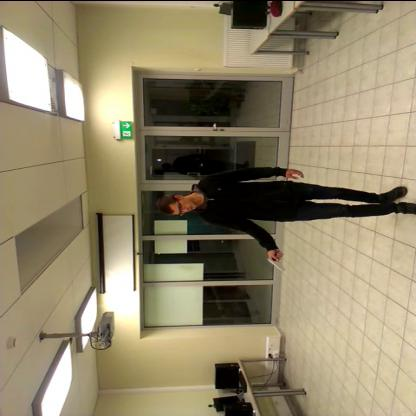Pistol: (256, 248, 286, 270)
